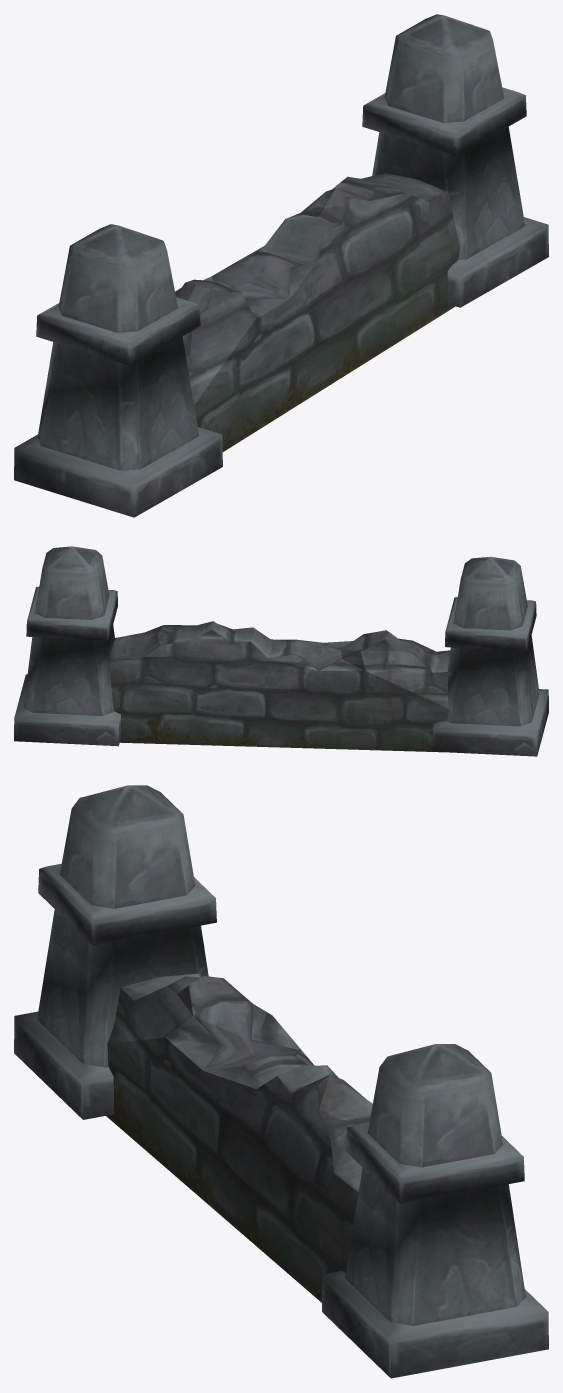
File: object_stonewalls02.fbx
3 renders of one model, top to bottom at view 1: azimuth 30°, elevation 25°; view 2: azimuth 150°, elevation 25°; view 3: azimuth 270°, elevation 25°, orthographic. The views are drawn at different scales.
Visible parts, largest first — view 1: object_stonewalls02-0; view 2: object_stonewalls02-0; view 3: object_stonewalls02-0.
Part boxes in pixels (box(x1,y1,x2,y2)): object_stonewalls02-0: box(14, 14, 548, 517); object_stonewalls02-0: box(14, 546, 548, 756); object_stonewalls02-0: box(14, 785, 548, 1378).
Size of the model in its own units: 5.84 by 2.27 by 3.72.
